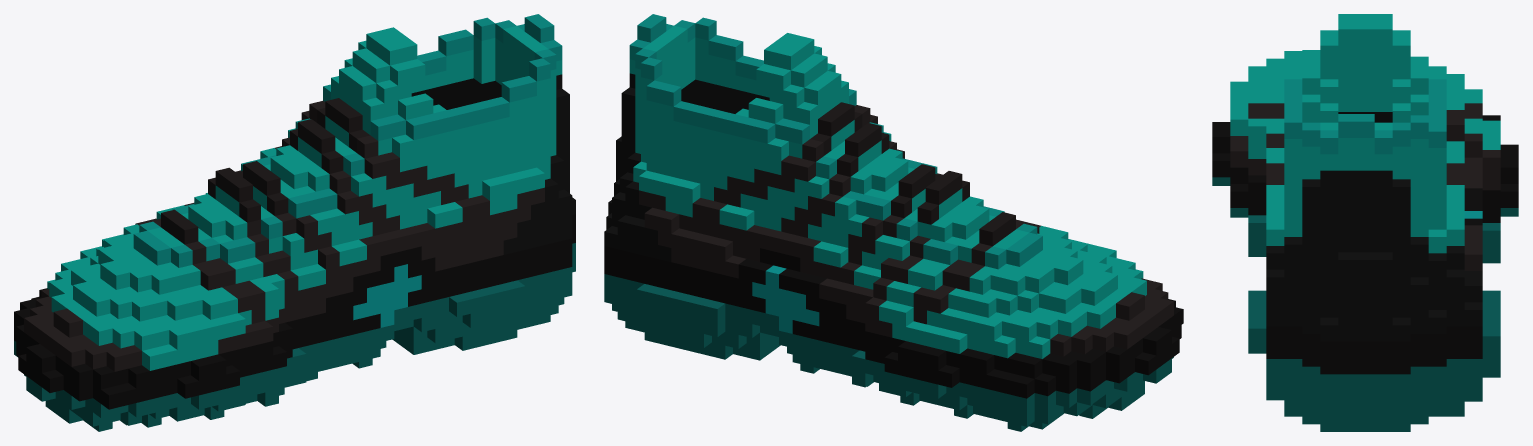
File: Trapped Nice.fbx
3 views of the same model, side by side, from view 1: azimuth 30°, elevation 25°; view 2: azimuth 150°, elevation 25°; view 3: azimuth 270°, elevation 25° (orthographic). The views are drawn at different scales.
Parts seen in each view (by area): view 1: Untitled; view 2: Untitled; view 3: Untitled.
Part boxes in pixels (x1,y1,x2,y2): Untitled: (14,14,575,431); Untitled: (604,14,1183,431); Untitled: (1212,14,1518,431).
Bounding box in the file's own units: 390 × 200 × 170.
